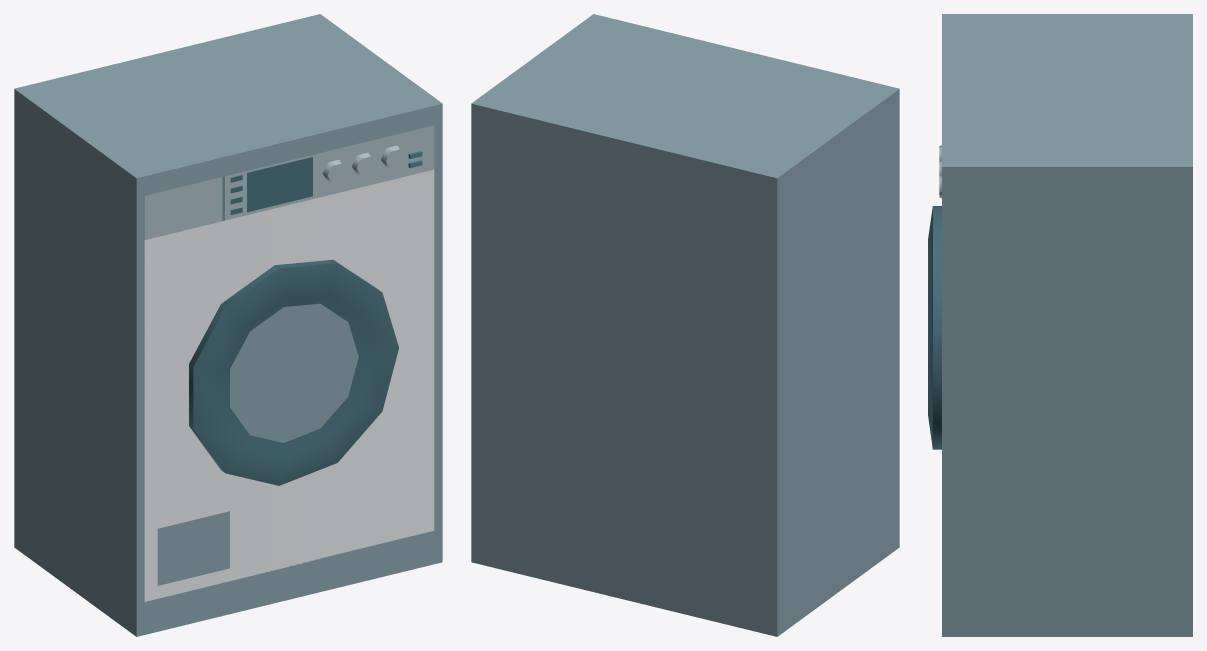
Rendered from bathroom_item_032.glb.
3 views of the same model, side by side, from view 1: azimuth 30°, elevation 25°; view 2: azimuth 150°, elevation 25°; view 3: azimuth 270°, elevation 25° (orthographic). The views are drawn at different scales.
Visible parts, largest first — view 1: bathroom_item_032; view 2: bathroom_item_032; view 3: bathroom_item_032.
Boxes of the visible parts, x1,y1,x2,y2 form: bathroom_item_032: (14, 14, 442, 636); bathroom_item_032: (471, 14, 899, 636); bathroom_item_032: (928, 14, 1192, 636).
Size of the model in its own units: 0.7196 by 1.03 by 0.5259.
Materials: 1 (1 with a texture image).
